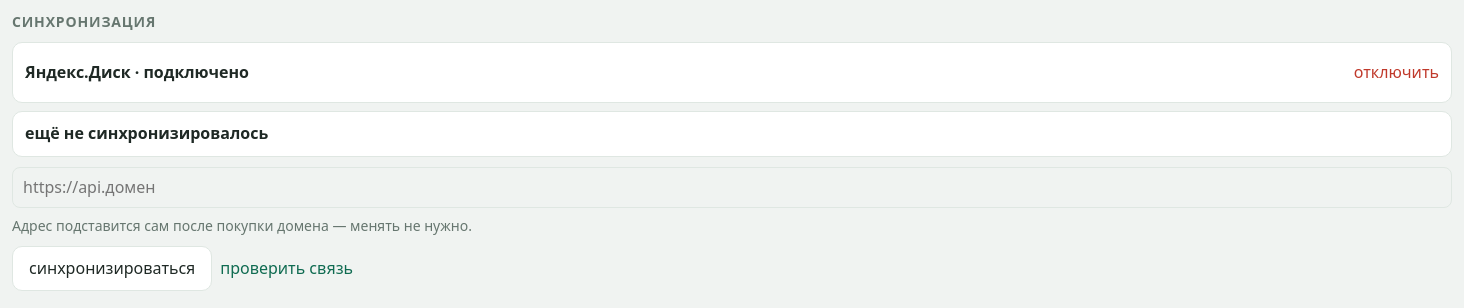
it: протухший токен — возвращает кнопку подключения и подсказку
What coordinates should you click on to do the following:
click the button "синхронизироваться"
I would click on:
 (112, 269)
Its box is [12, 246, 212, 291].
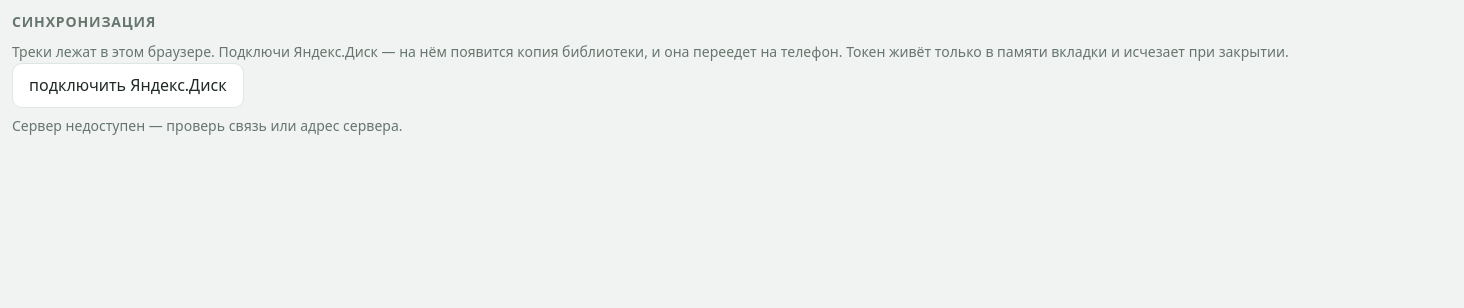
Check: the button "подключить Яндекс.Диск" is shown, box [12, 63, 244, 108]
Check: the text "Сервер недоступен — проверь связь или адрес сервера." is shown, box [12, 116, 402, 135]
